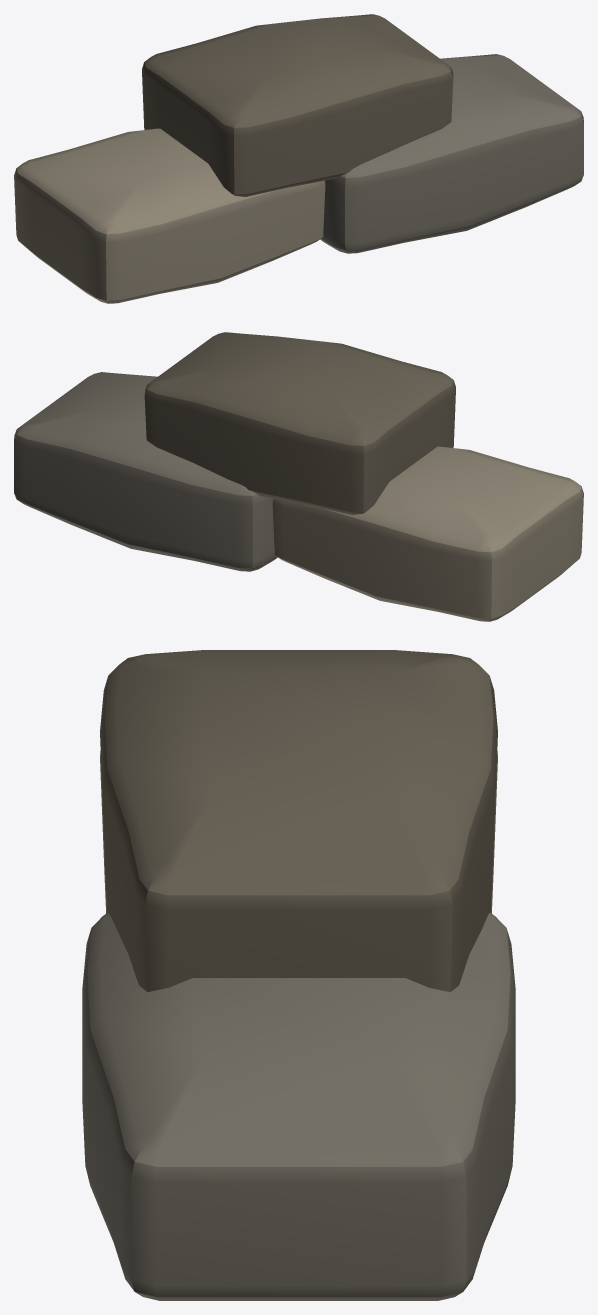
The model's file is Sandbag_trio_textured.fbx.
3 views of the same model, one above another, from view 1: azimuth 30°, elevation 25°; view 2: azimuth 150°, elevation 25°; view 3: azimuth 270°, elevation 25° (orthographic). The views are drawn at different scales.
Parts seen in each view (by area): view 1: Sabdbag4; view 2: Sabdbag4; view 3: Sabdbag4.
Part boxes in pixels (bbox=[...]): Sabdbag4: bbox=[14, 14, 583, 303]; Sabdbag4: bbox=[14, 332, 583, 621]; Sabdbag4: bbox=[82, 650, 515, 1300].
Size of the model in its own units: 168 by 65.67 by 64.12.
